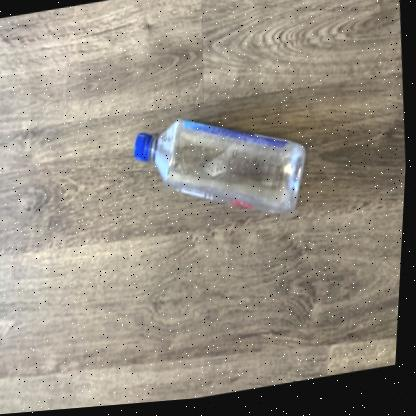Plastic: (136, 120, 308, 217)
